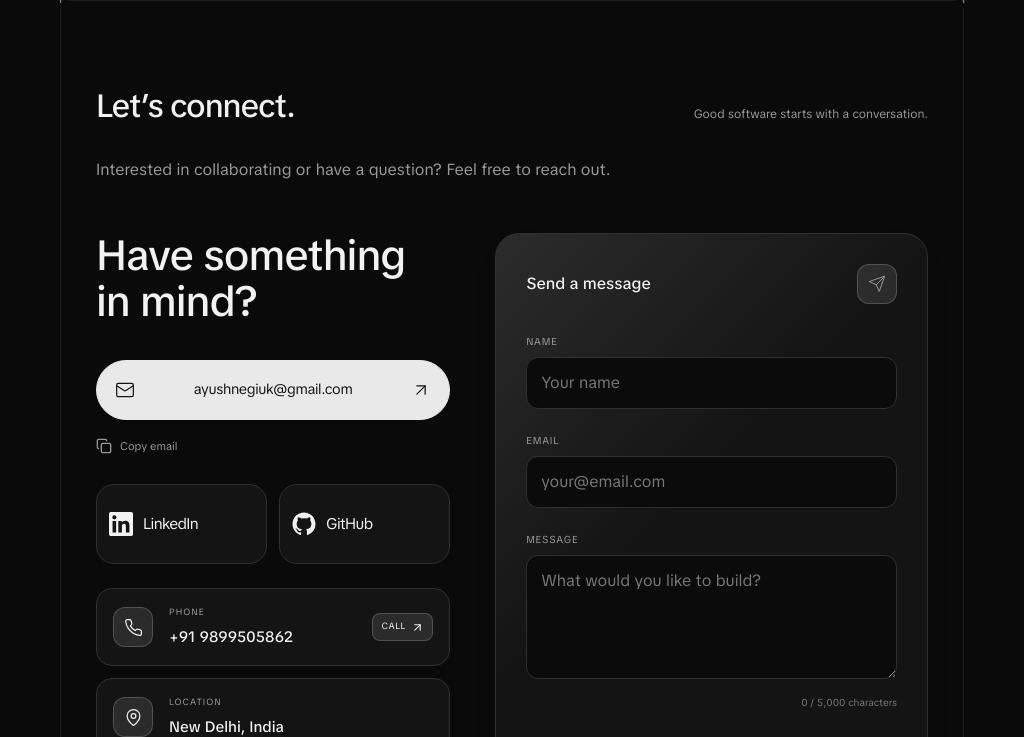
Test case: Contact form › uses the configured API origin without duplicating trailing slashes
The width and height of the screenshot is (1024, 737).
In the field labelled "NAME": (712, 383) [526,357,897,409], type "  Dev Example  "
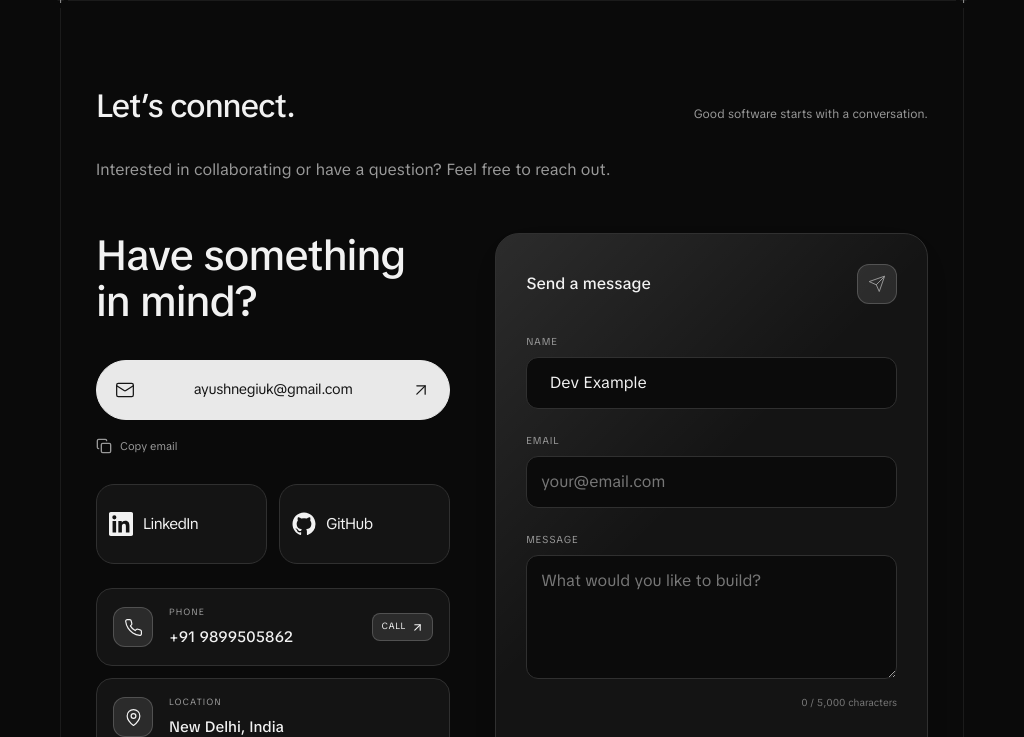
In the field labelled "EMAIL": (712, 482) [526,456,897,508], type "dev@example.com"
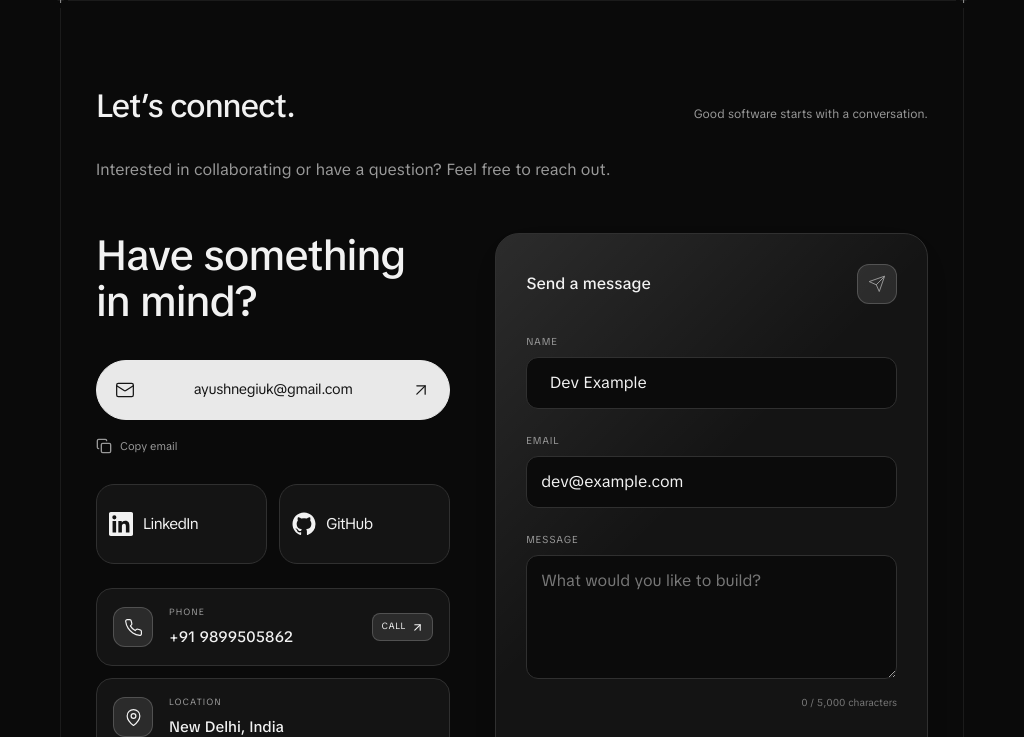
In the text box labelled "MESSAGE": (712, 617) [526,555,897,679], type "  I would like to collaborate.  "
(page scrolled)
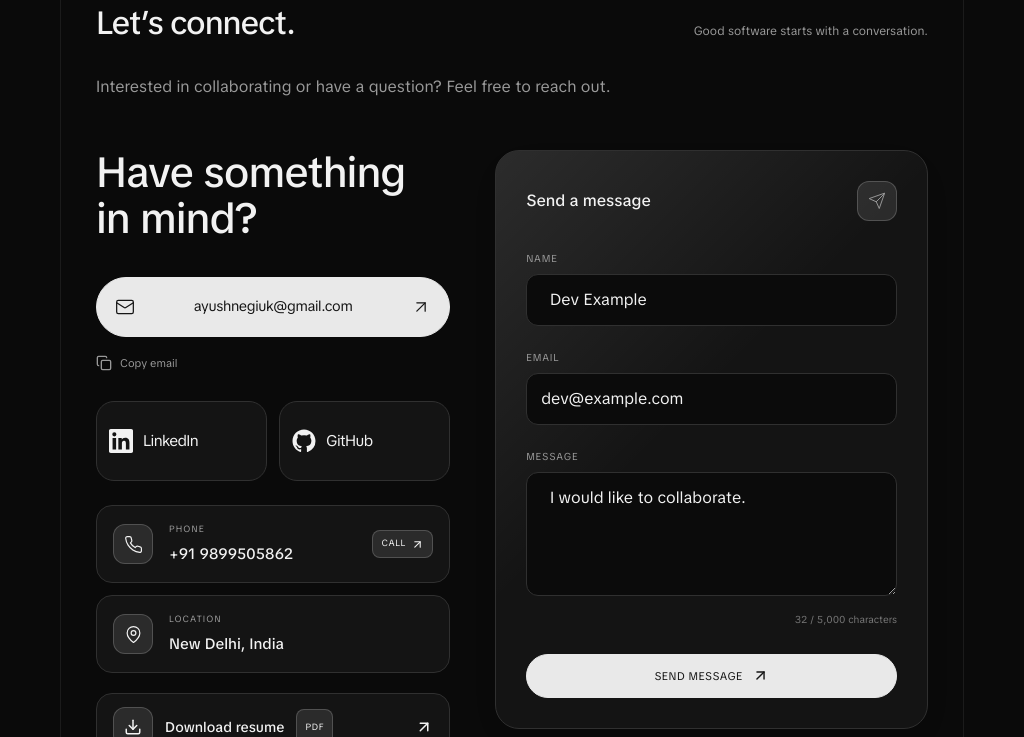
Submit the form "Send a message", box [526,181,897,698]
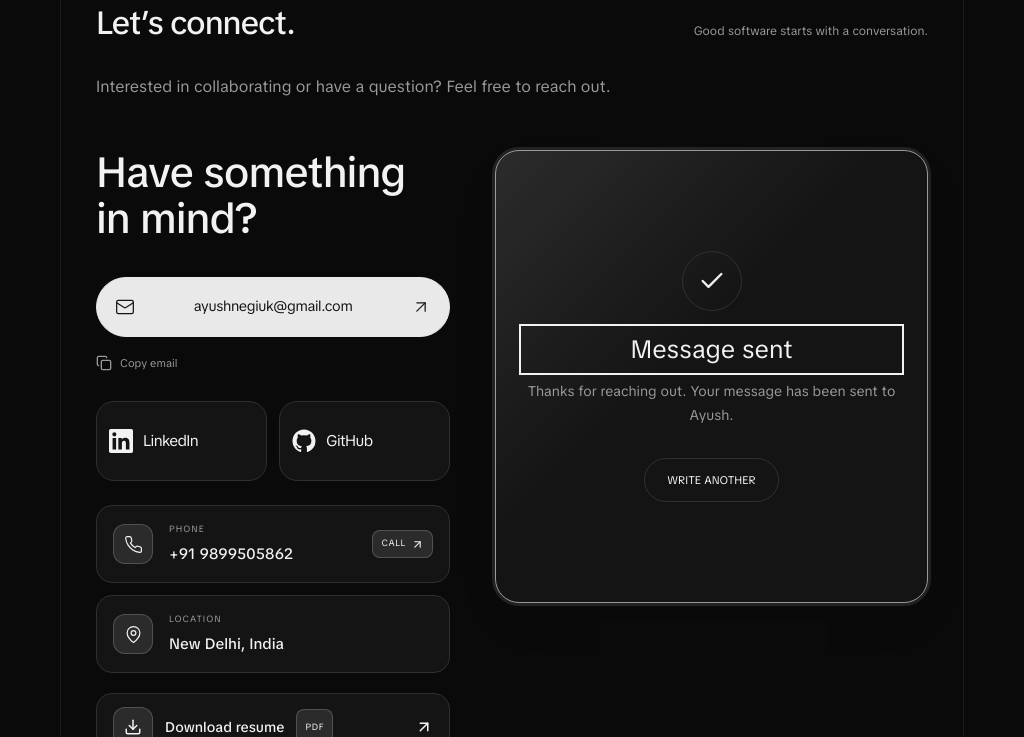
Expected: the heading "Message sent" is shown, [630,333,793,366]
